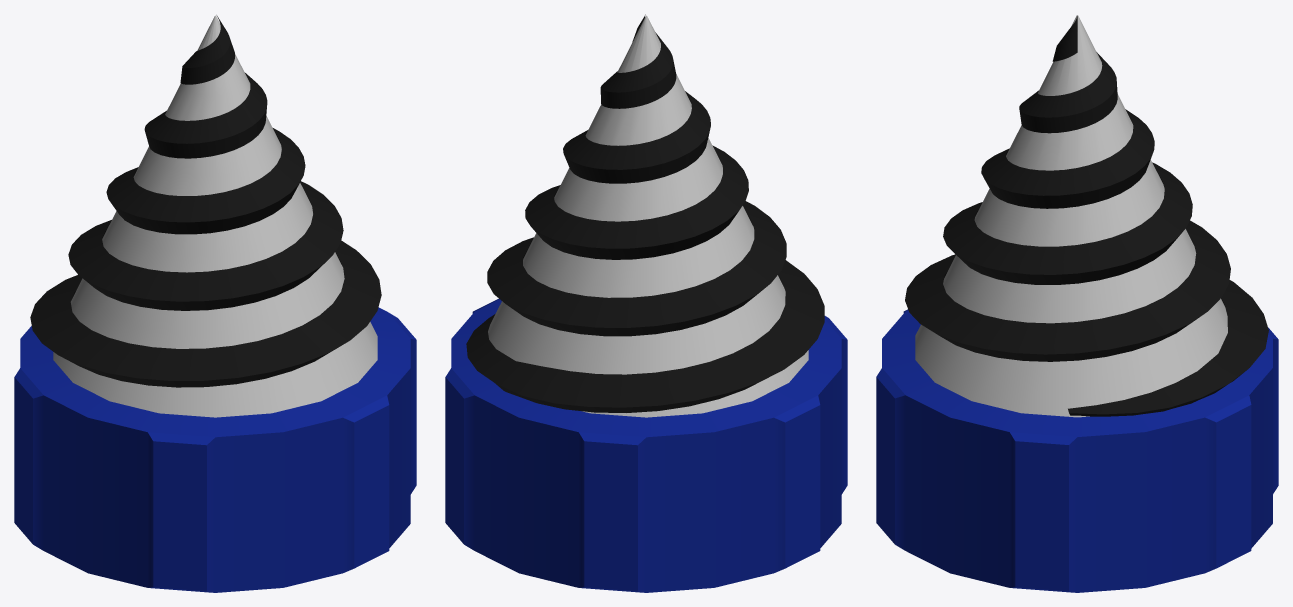
File: Driller.FBX
3 renders of one model, left to right at view 1: azimuth 30°, elevation 25°; view 2: azimuth 150°, elevation 25°; view 3: azimuth 270°, elevation 25°, orthographic.
Visible parts, largest first — view 1: Cylinder004; view 2: Cylinder004; view 3: Cylinder004.
Boxes of the visible parts, x1,y1,x2,y2 form: Cylinder004: [14, 15, 416, 592]; Cylinder004: [445, 14, 847, 592]; Cylinder004: [876, 15, 1278, 592].
Bounding box in the file's own units: 45.88 × 60.92 × 44.85.
